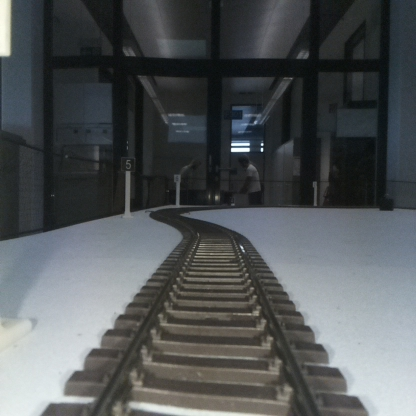black-info-5: (122, 156, 134, 221)
white-info-6: (173, 173, 181, 205)
